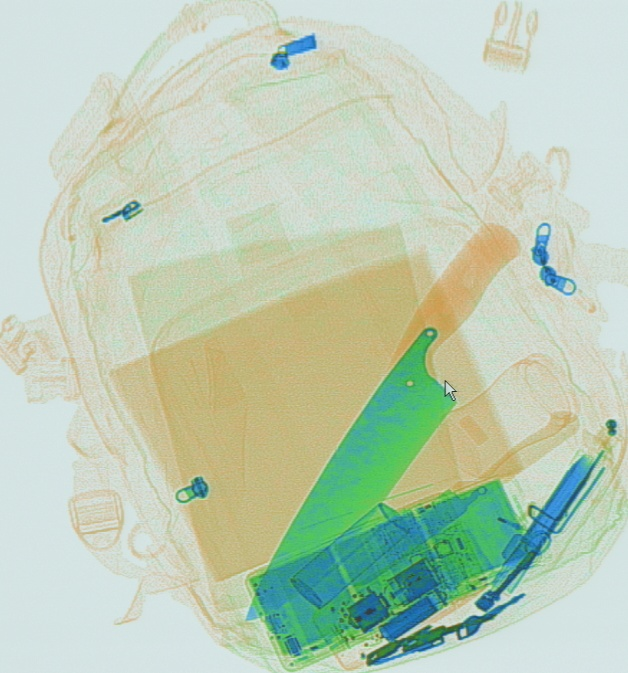knife: (240, 216, 525, 621), (332, 405, 583, 586)
